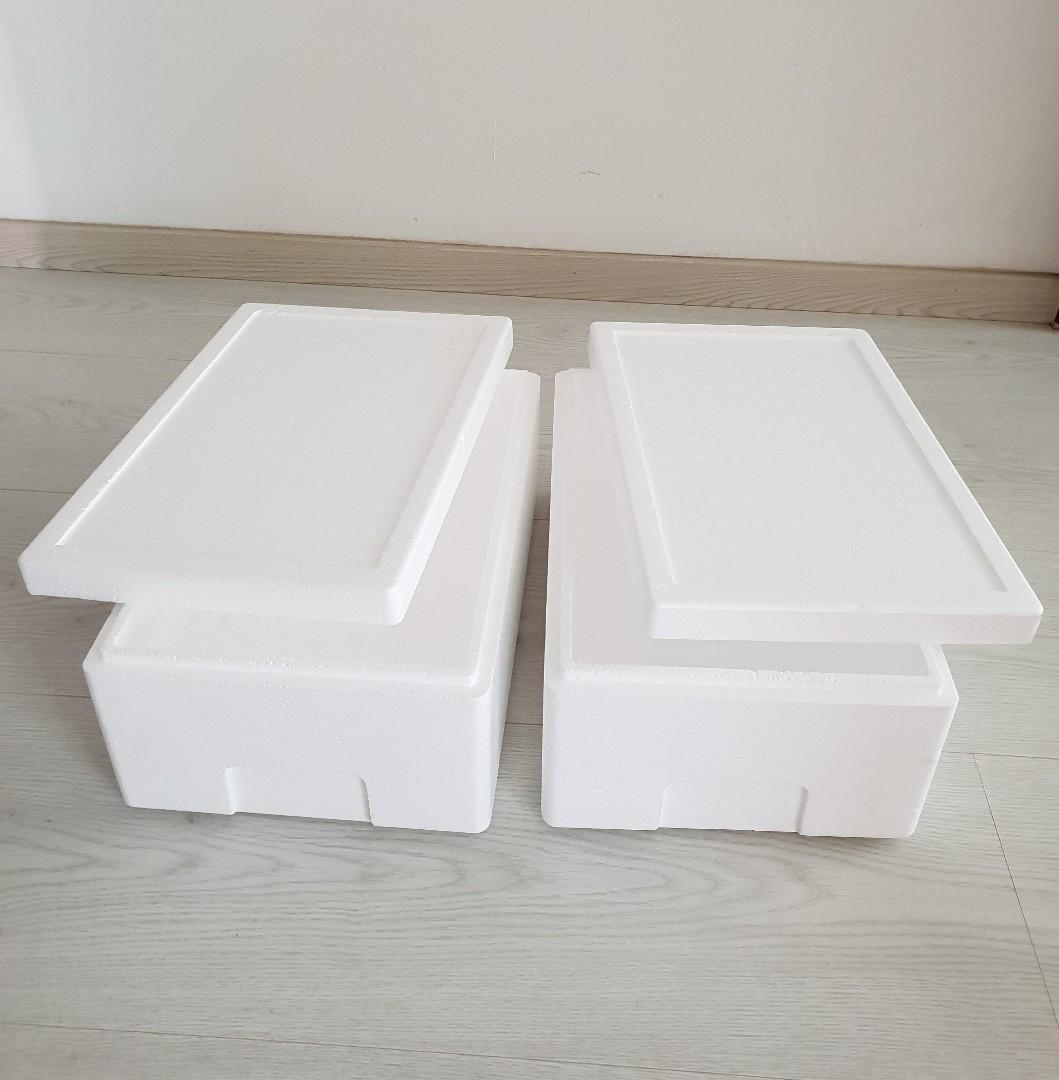FoamBox: (6, 291, 549, 849), (537, 312, 1052, 851)
